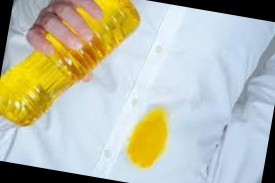mustard: (120, 99, 173, 173)
